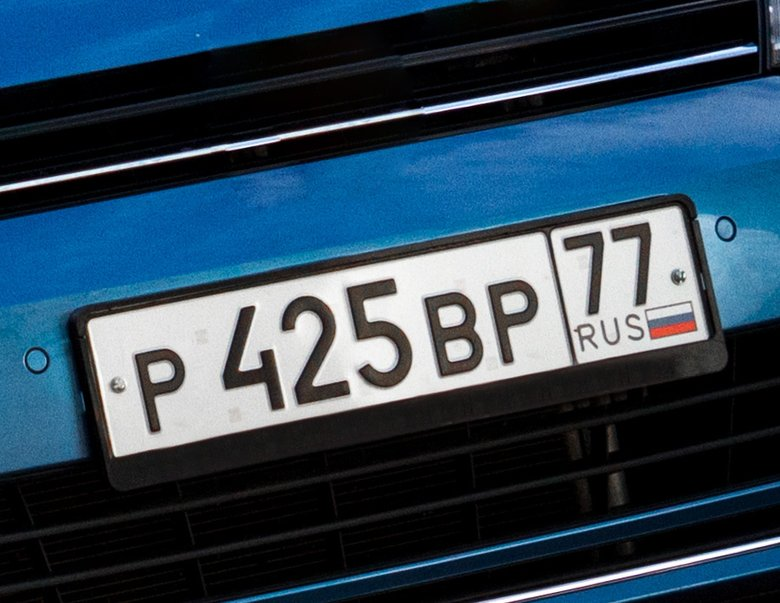number_plate: (100, 190, 692, 458)
